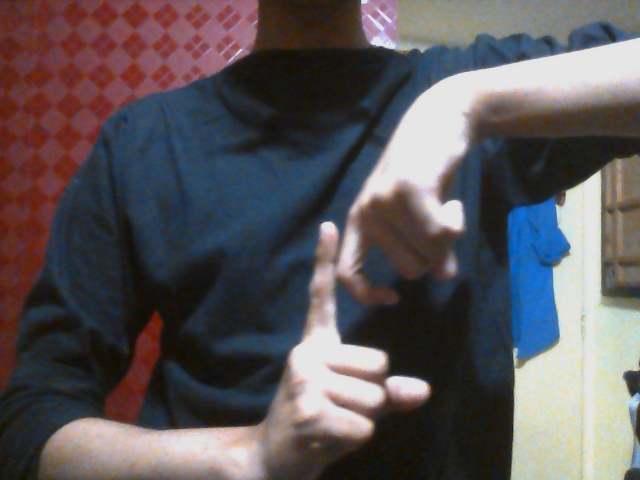K: (270, 150, 453, 454)
